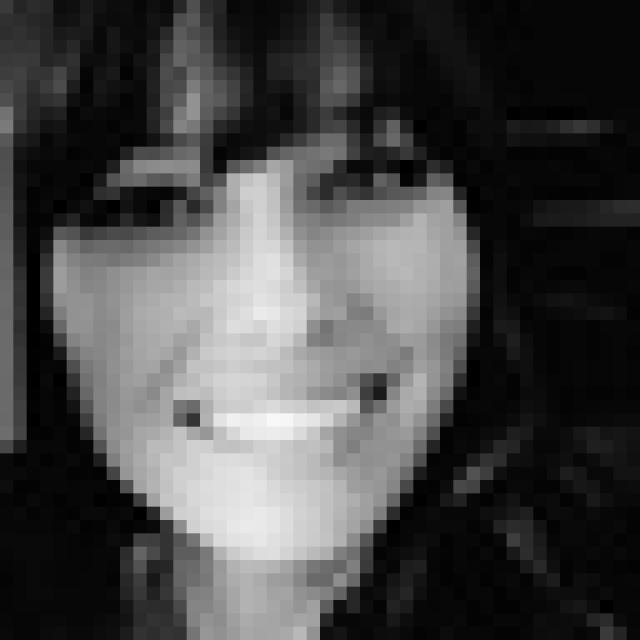happy: (75, 94, 440, 479)
